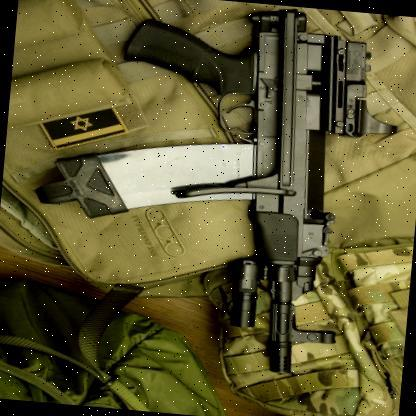rifle: (64, 0, 407, 383)
